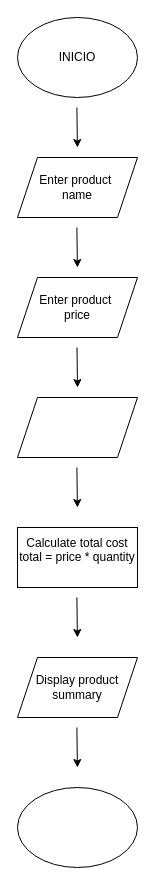
The diagram is 155 pixels wide and 885 high, and some of its shapes have lost their labels. The centre of each missing label's shape, as x and y in pixels:
END: the point at 77,827
Enter product quantity: the point at 77,427
